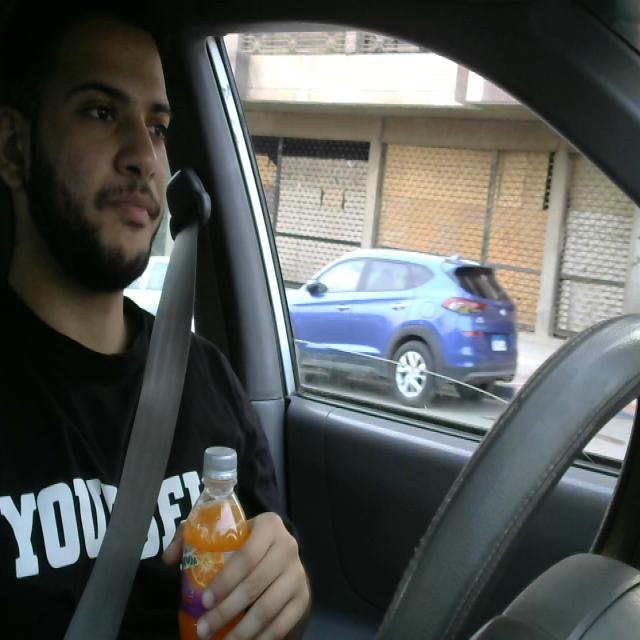drinking: (176, 439, 258, 640)
